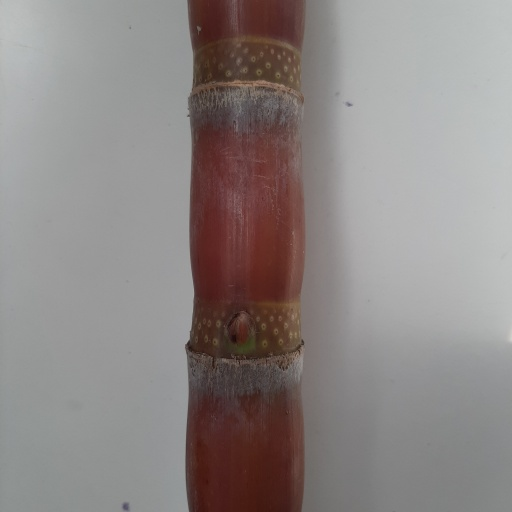Bud: (227, 309, 257, 349)
